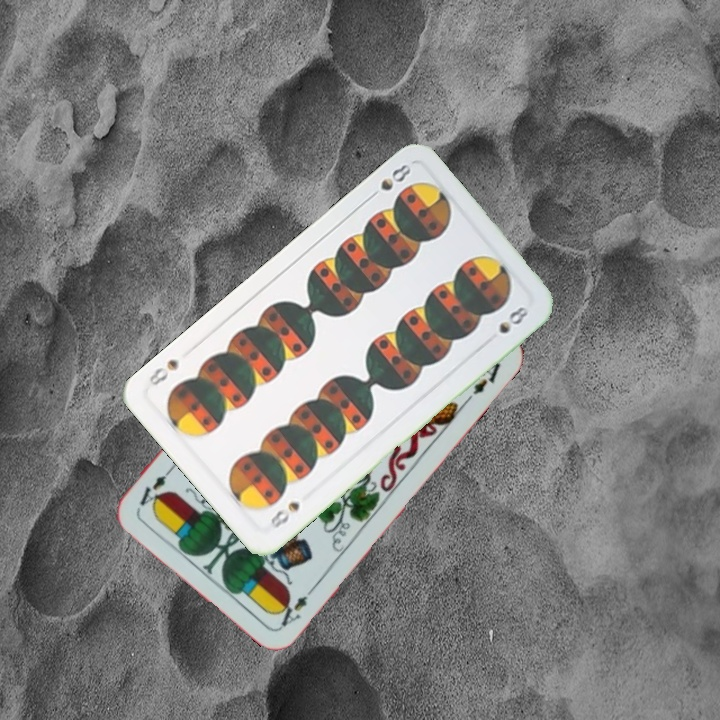EA: (274, 581, 319, 630)
S8: (363, 159, 414, 203), (266, 497, 303, 532)
